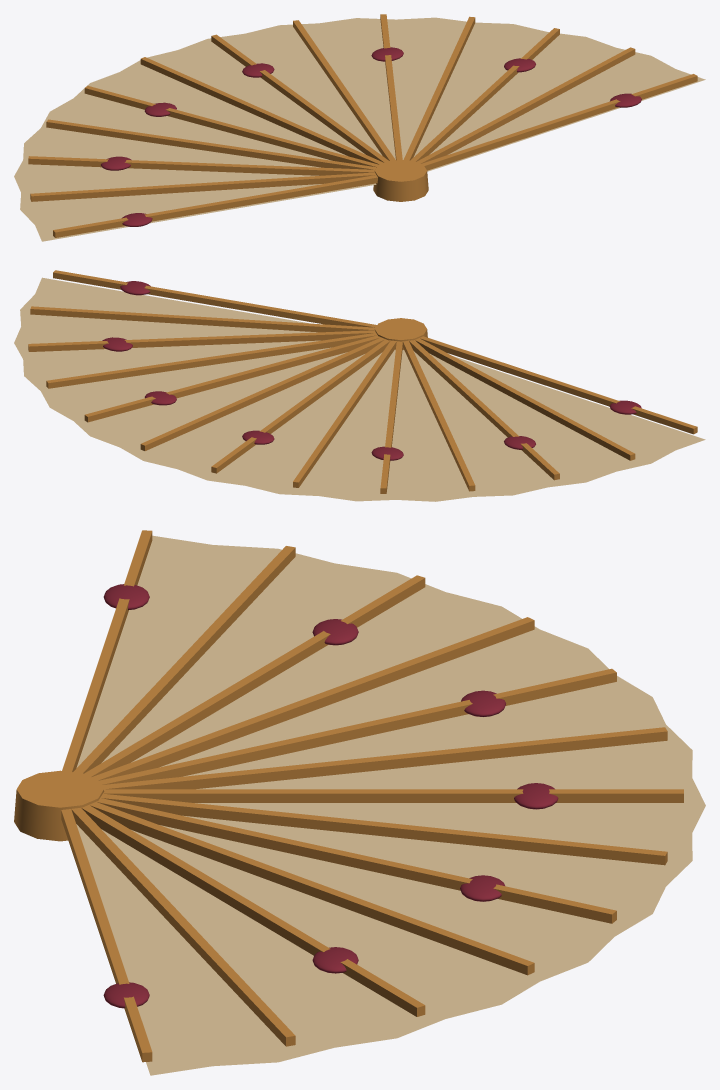
Rendered from mia-fan.glb.
The picture shows the model from 3 angles, top to bottom: view 1: azimuth 30°, elevation 25°; view 2: azimuth 150°, elevation 25°; view 3: azimuth 270°, elevation 25°; orthographic projection. The views are drawn at different scales.
Parts seen in each view (by area): view 1: Body_ivory, Body_brass, Body_velvet; view 2: Body_ivory, Body_brass, Body_velvet; view 3: Body_ivory, Body_brass, Body_velvet.
Part boxes in pixels (<box>): Body_ivory: <box>14,17,705,241</box>; Body_brass: <box>28,14,697,237</box>; Body_velvet: <box>101,47,641,226</box>; Body_ivory: <box>14,277,705,501</box>; Body_brass: <box>28,270,697,493</box>; Body_velvet: <box>102,281,641,460</box>; Body_ivory: <box>76,535,705,1075</box>; Body_brass: <box>14,530,683,1062</box>; Body_velvet: <box>103,584,558,1008</box>.
Size of the model in its own units: 0.4971 by 0.014 by 0.269.
